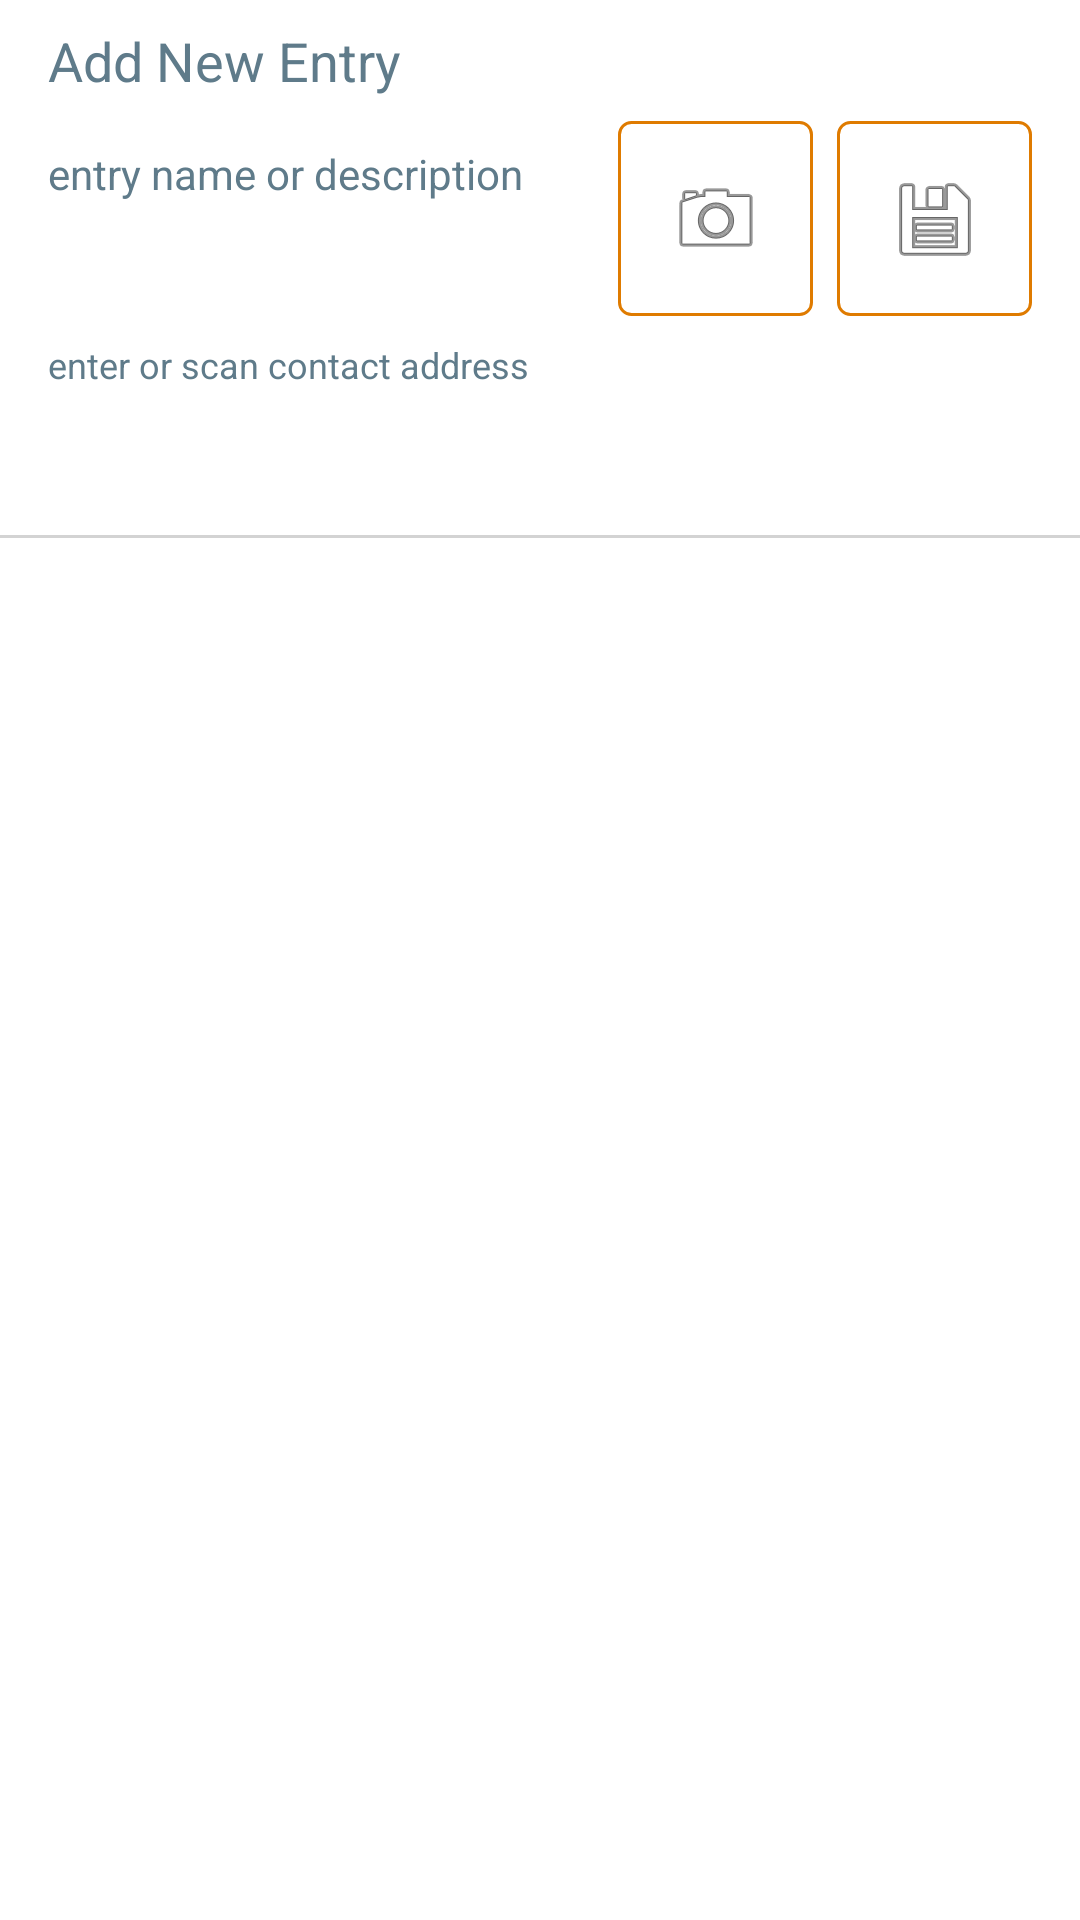

Icons on this 1080 × 1920 Android screen, each with the point to tap as point (x, y):
camera: point (715, 218)
save: point (934, 218)
